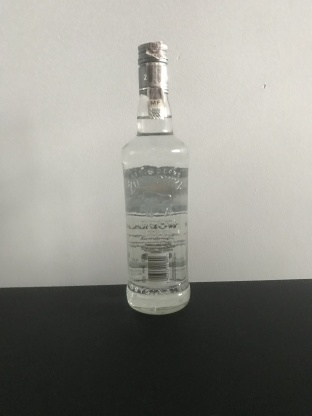nakretka: (136, 40, 170, 95)
